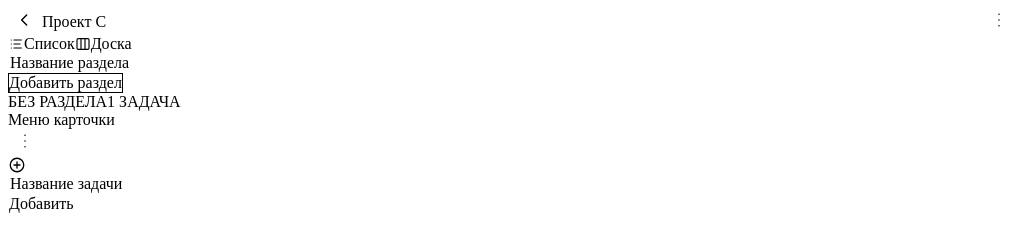
Scenario: ProjectDetail — клик по строке/карточке открывает Task Detail (E10.2) › адверсариальная проверка (Board): клик по кнопке меню карточки открывает меню, но НЕ открывает Task Detail
Expected: the text "Меню карточки" is shown, [8,111,115,156]
Click the button named "Действия с задачей «Меню карточки»" at (25, 142), box [8,129,42,156]
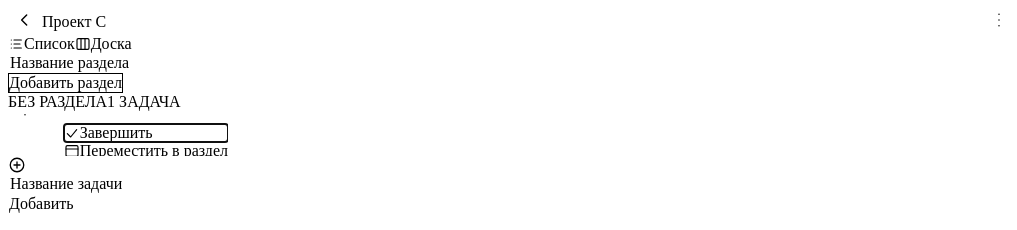
Expected: the menu item "Завершить" is shown, [64,124,228,142]
